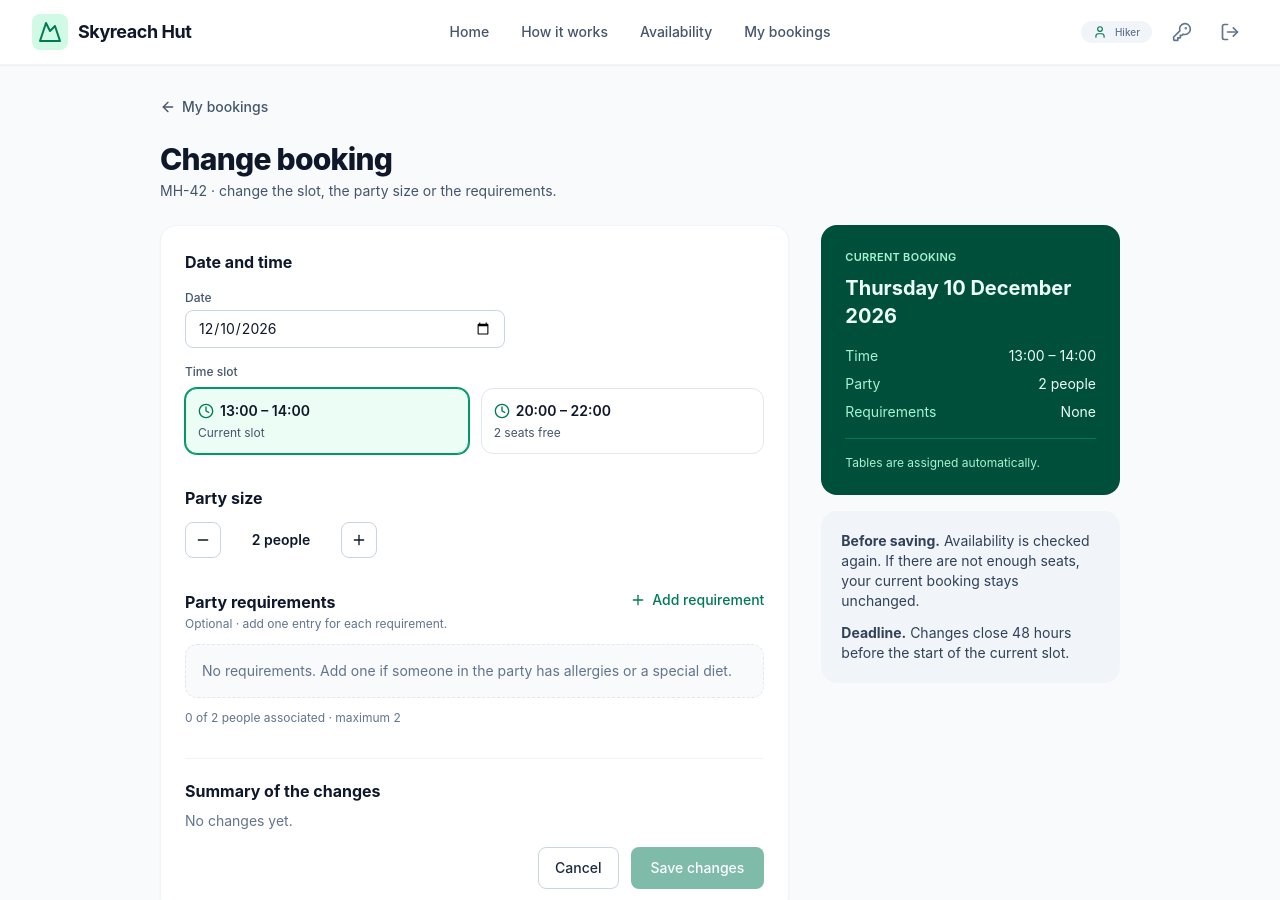
ChangeBooking Flow › pre-fills the form and saves ONLY changed fields (partial update)
Expected: the heading "Party size" is shown, [185,488,263,508]
Expected: the button "Save changes" is disabled, [630,847,764,889]
# Increase party size
Click the button named "Increase party size": click(359, 540) [341,522,377,558]
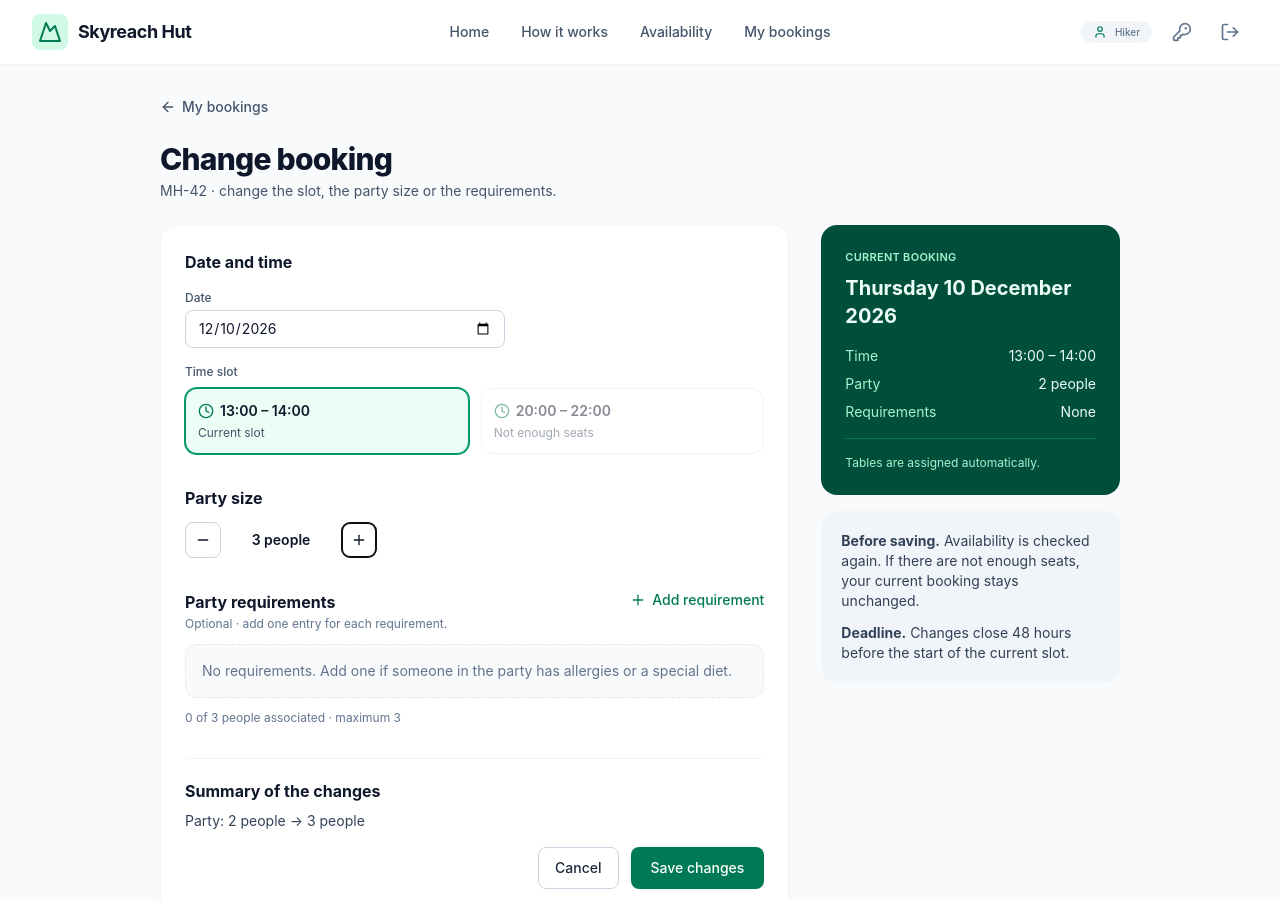
Expected: the text "3 people" is shown, [252,531,310,548]
Expected: the button "Save changes" is enabled
Click the button "Save changes": click(697, 868) [630,847,764,889]
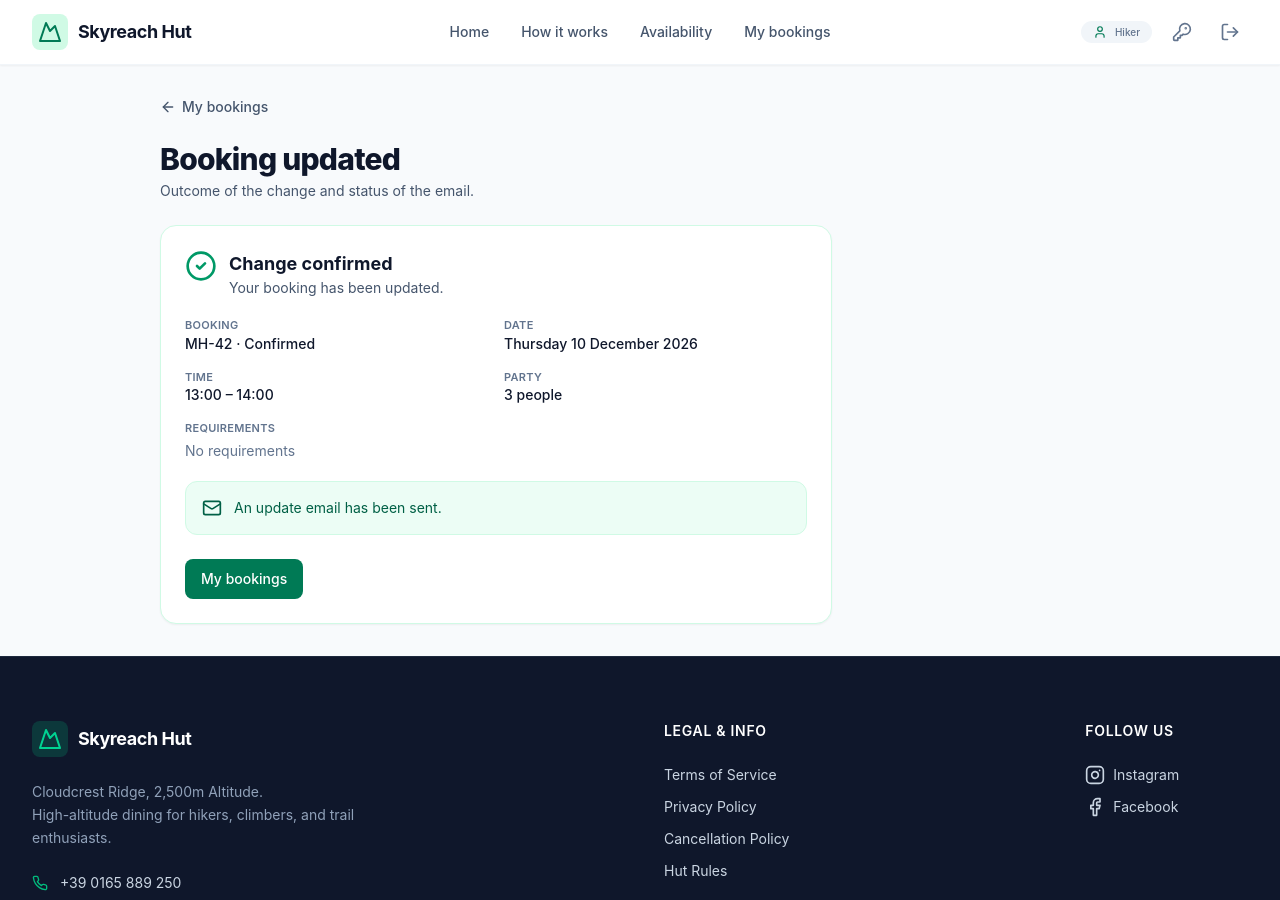
Expected: the heading "Change confirmed" is shown, [229,253,392,274]
Expected: the text "An update email has been sent." is shown, [234,498,442,518]
